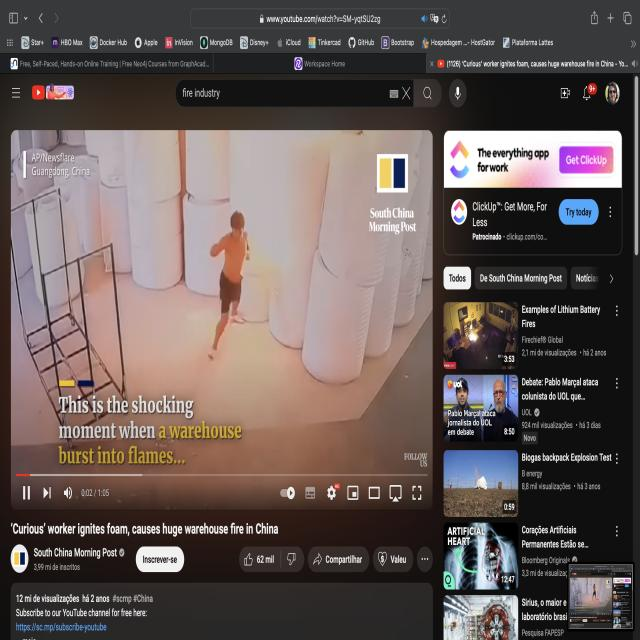Fogo: (200, 137, 320, 356)
